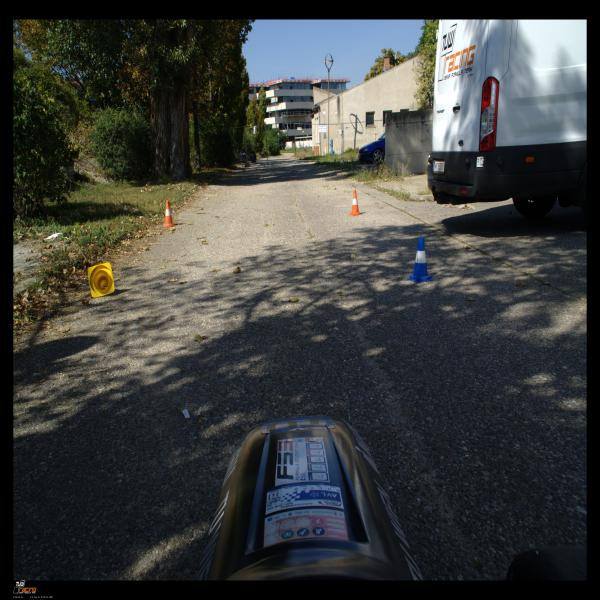blue_cone: (406, 238, 434, 282)
orange_cone: (348, 190, 363, 216), (162, 200, 176, 227)
yellow_cone: (88, 262, 115, 298)
